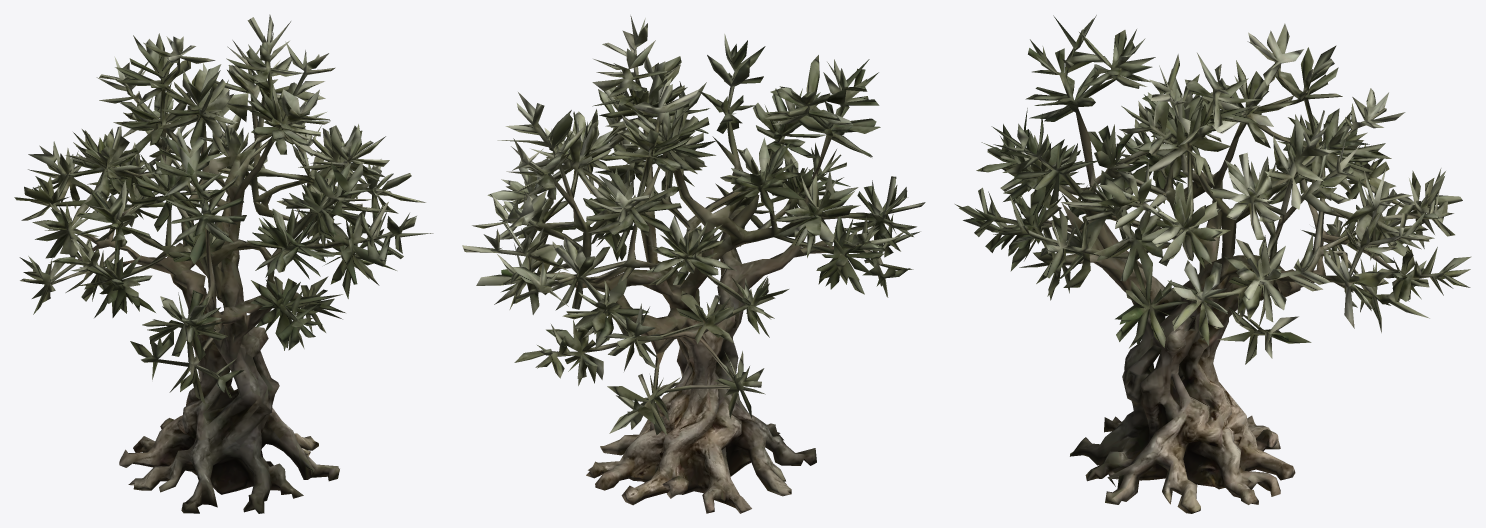
Rendered from olive.glb.
3 views of the same model, side by side, from view 1: azimuth 30°, elevation 25°; view 2: azimuth 150°, elevation 25°; view 3: azimuth 270°, elevation 25° (orthographic). The views are drawn at different scales.
Parts seen in each view (by area): view 1: tripo_node_4d2d7b12-2247-4588-83e4-b96edacf2df9; view 2: tripo_node_4d2d7b12-2247-4588-83e4-b96edacf2df9; view 3: tripo_node_4d2d7b12-2247-4588-83e4-b96edacf2df9.
Boxes of the visible parts, x1,y1,x2,y2 form: tripo_node_4d2d7b12-2247-4588-83e4-b96edacf2df9: [14, 14, 433, 513]; tripo_node_4d2d7b12-2247-4588-83e4-b96edacf2df9: [462, 15, 925, 513]; tripo_node_4d2d7b12-2247-4588-83e4-b96edacf2df9: [955, 15, 1471, 513].
Bounding box in the file's own units: 0.8779 × 0.9403 × 1.
1 material, 1 textured.
